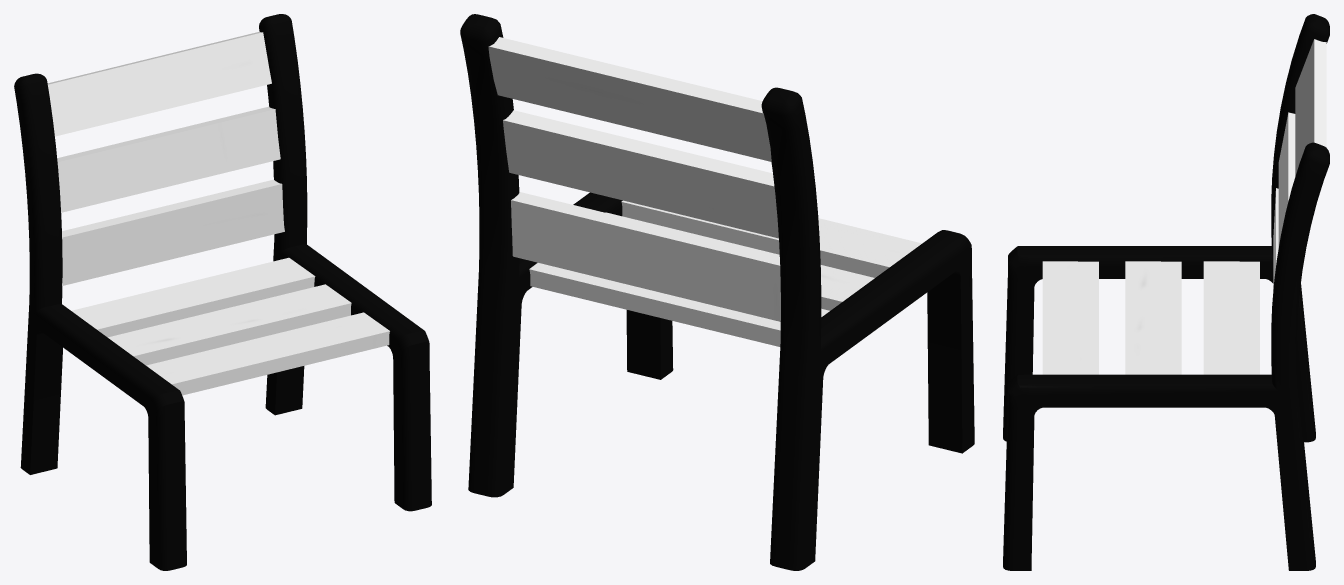
The model's file is chair.fbx.
3 renders of one model, left to right at view 1: azimuth 30°, elevation 25°; view 2: azimuth 150°, elevation 25°; view 3: azimuth 270°, elevation 25°, orthographic. The views are drawn at different scales.
Parts seen in each view (by area): view 1: Cube; view 2: Cube; view 3: Cube.
Boxes of the visible parts, x1,y1,x2,y2 form: Cube: (14, 14, 431, 570); Cube: (460, 14, 974, 570); Cube: (1003, 14, 1329, 570).
Bounding box in the file's own units: 234 × 318 × 226.
